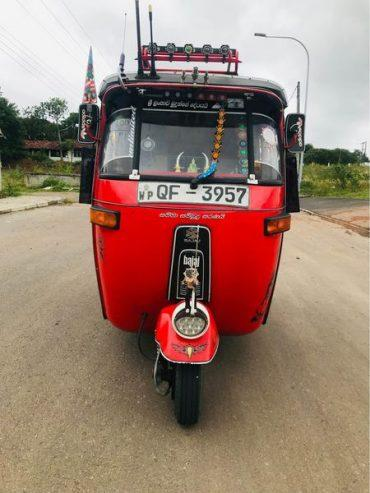threewheel: (78, 69, 305, 429)
